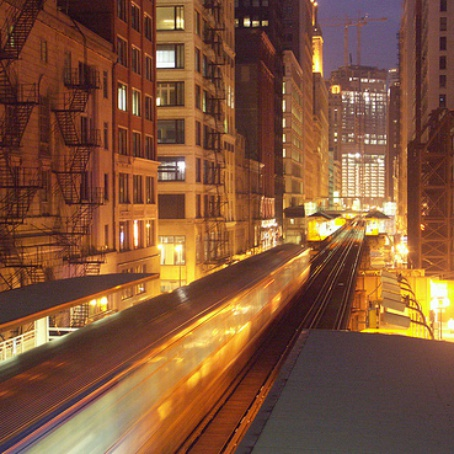building: (1, 26, 111, 285), (93, 1, 167, 301), (157, 1, 233, 263), (399, 1, 454, 249), (235, 31, 276, 253), (331, 65, 384, 201), (299, 1, 333, 206), (281, 49, 306, 220)
crane: (323, 1, 386, 68)
train: (1, 243, 324, 454)
train track: (175, 312, 309, 454), (313, 218, 368, 333)
